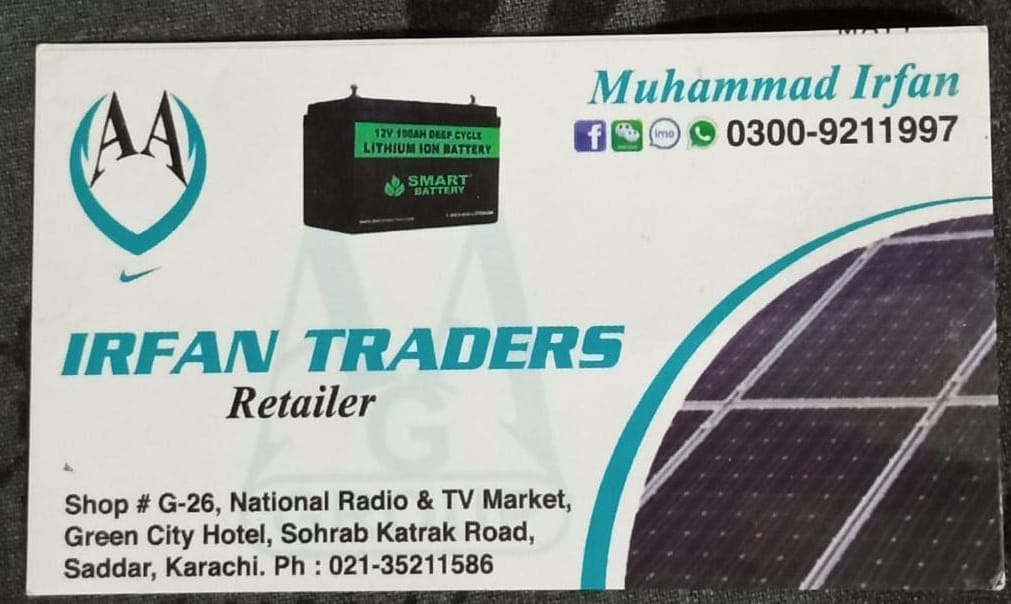alphabetical: (56, 324, 632, 378), (584, 60, 974, 108)
numerical: (720, 109, 962, 155)
